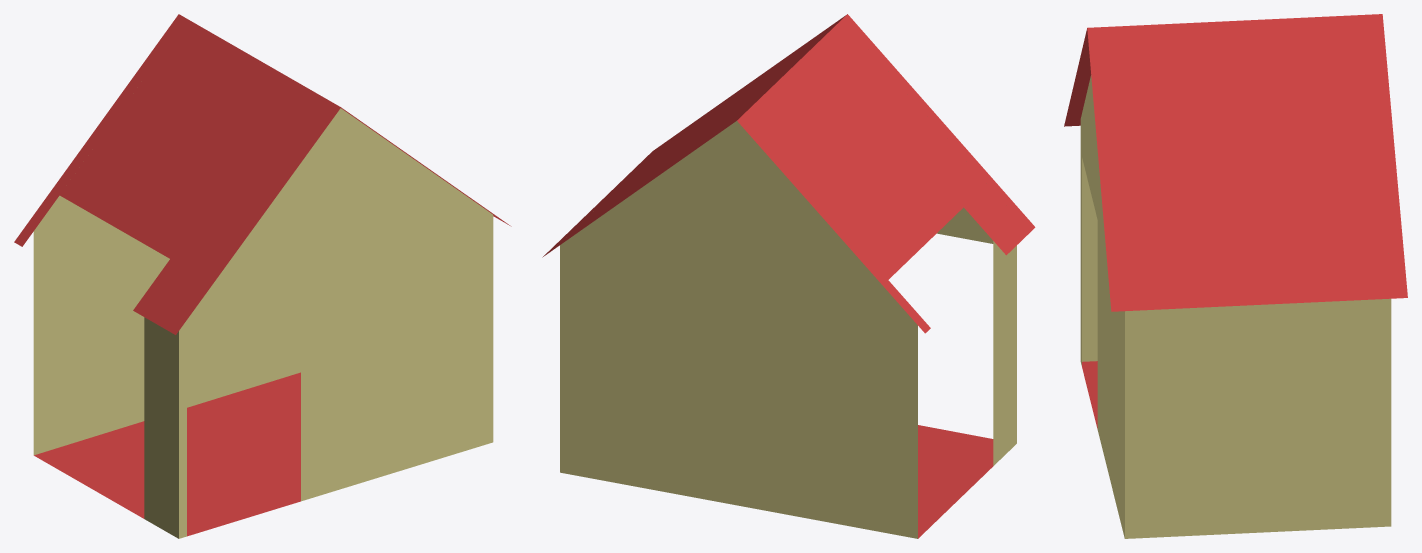
The picture shows the model from 3 angles, left to right: view 1: azimuth 30°, elevation 25°; view 2: azimuth 150°, elevation 25°; view 3: azimuth 270°, elevation 25°; orthographic projection. The views are drawn at different scales.
Size of the model in its own units: 15.86 by 11.32 by 15.31.
